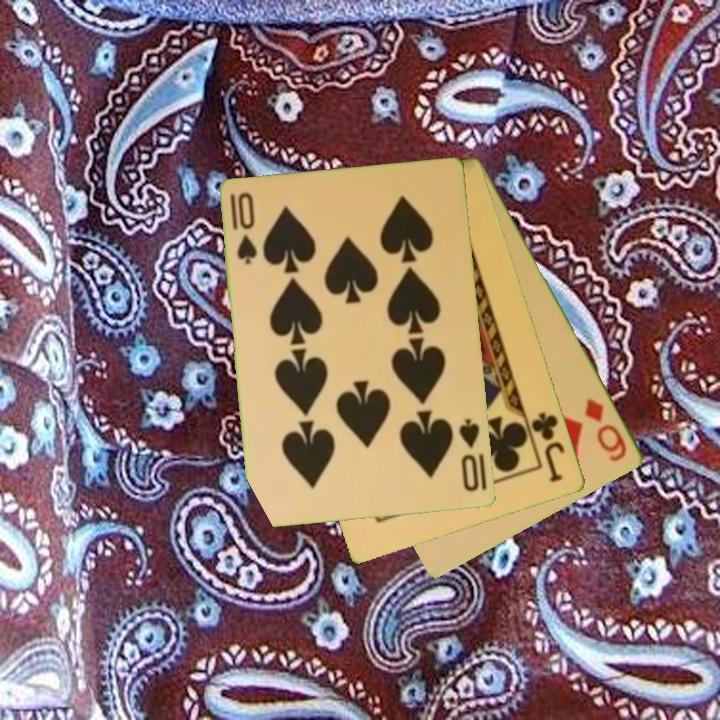10s: (227, 189, 261, 268), (456, 415, 483, 495)
6d: (581, 395, 631, 465)
Jc: (528, 408, 568, 486)
